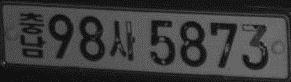3: (241, 24, 269, 70)
5: (149, 20, 176, 66)
7: (209, 21, 237, 68)
8: (179, 20, 207, 67), (79, 15, 105, 62)
9: (47, 13, 74, 59)
사: (109, 20, 136, 61)
충남_V: (18, 11, 47, 58)
